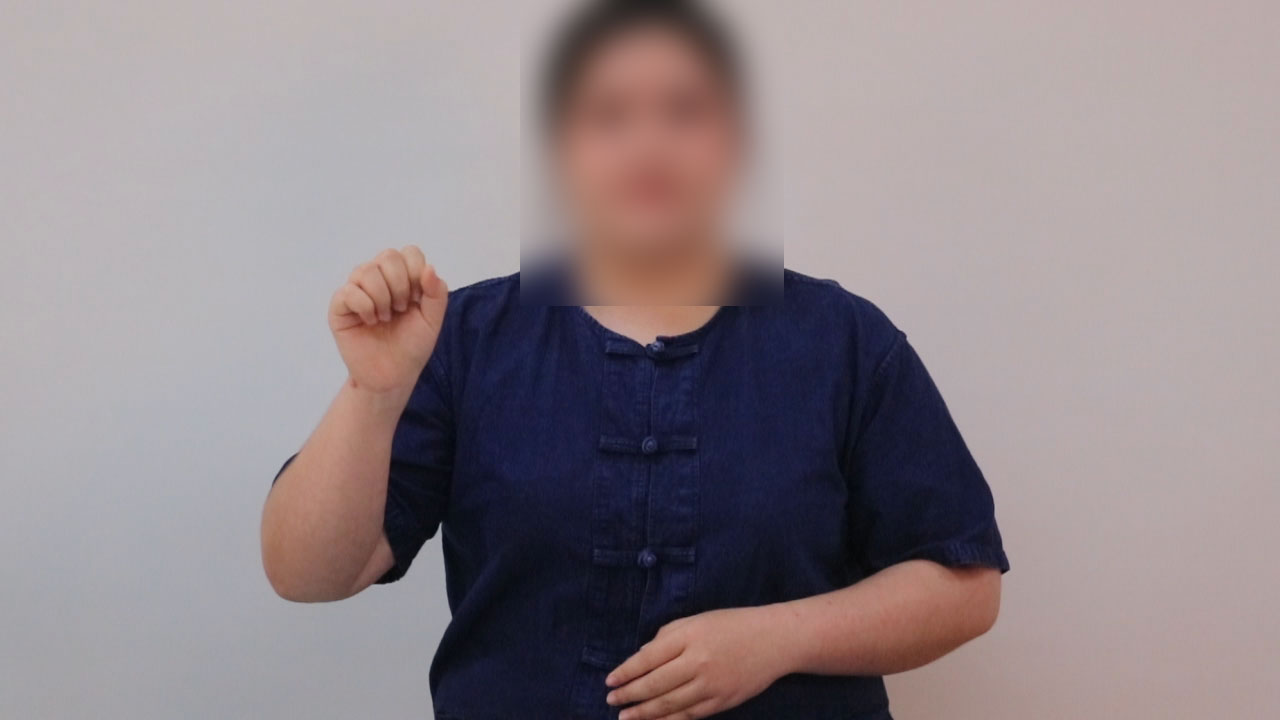sor: (319, 232, 464, 387)
